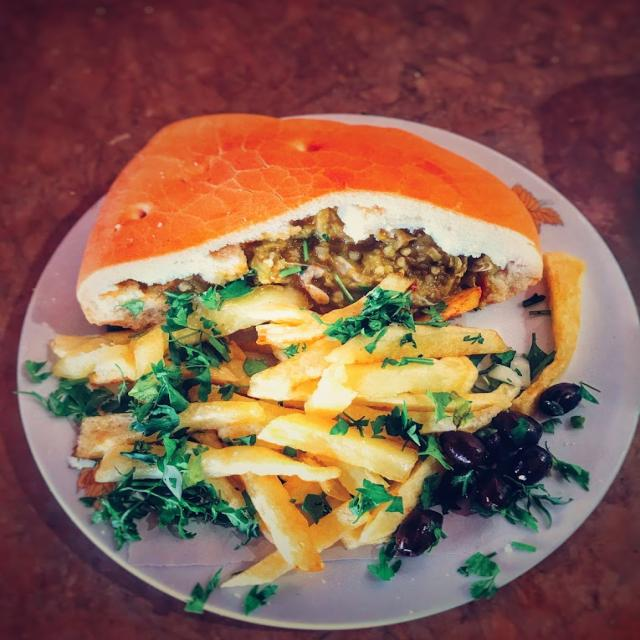Sandwitch tounsi: (87, 101, 567, 361)
